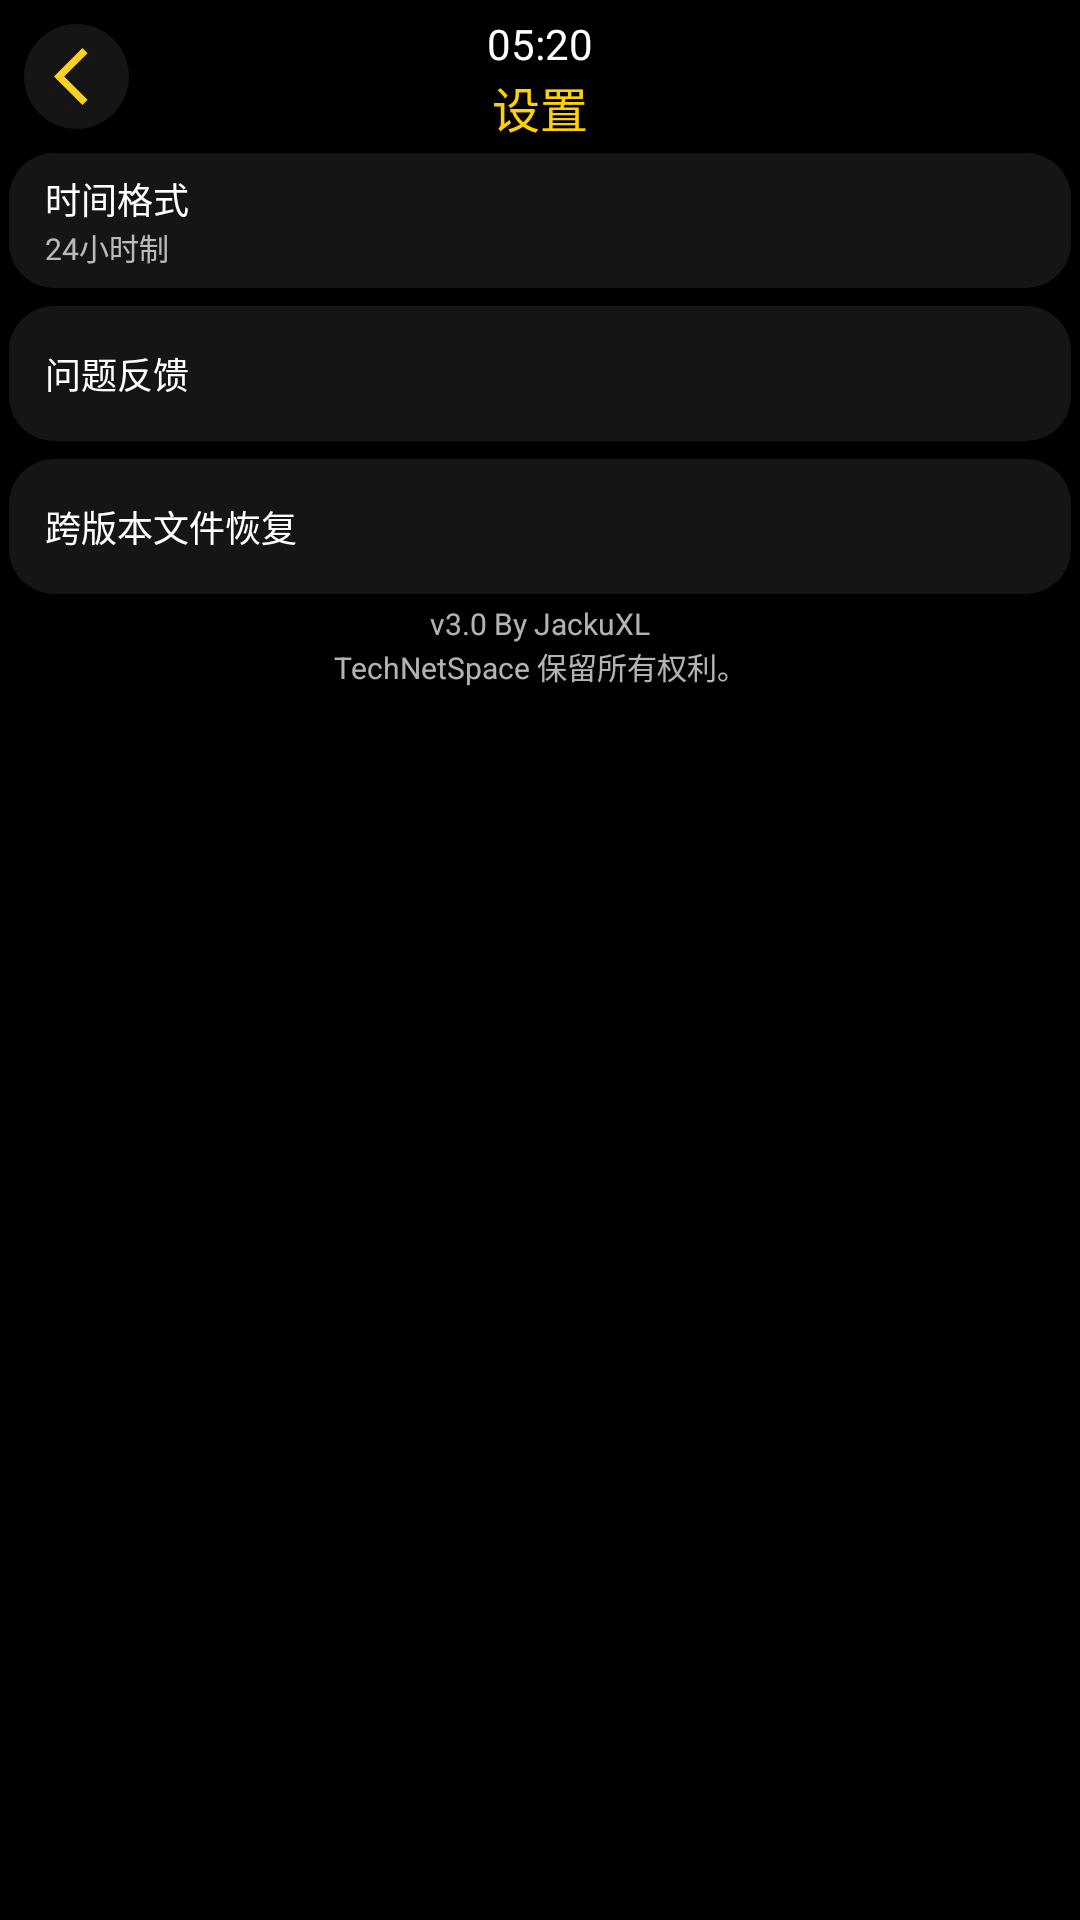

Where icons sit on this 1080 × 1920 app screen, as detection(x1, y1, x2, y2):
arrow back: detection(54, 48, 88, 105)
